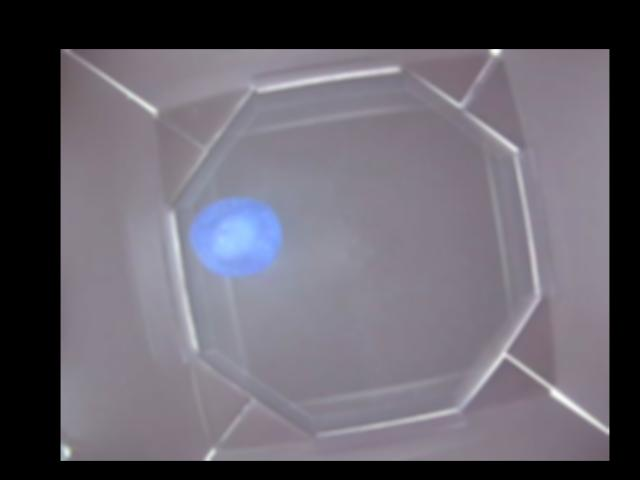Potato: (190, 196, 281, 279)
